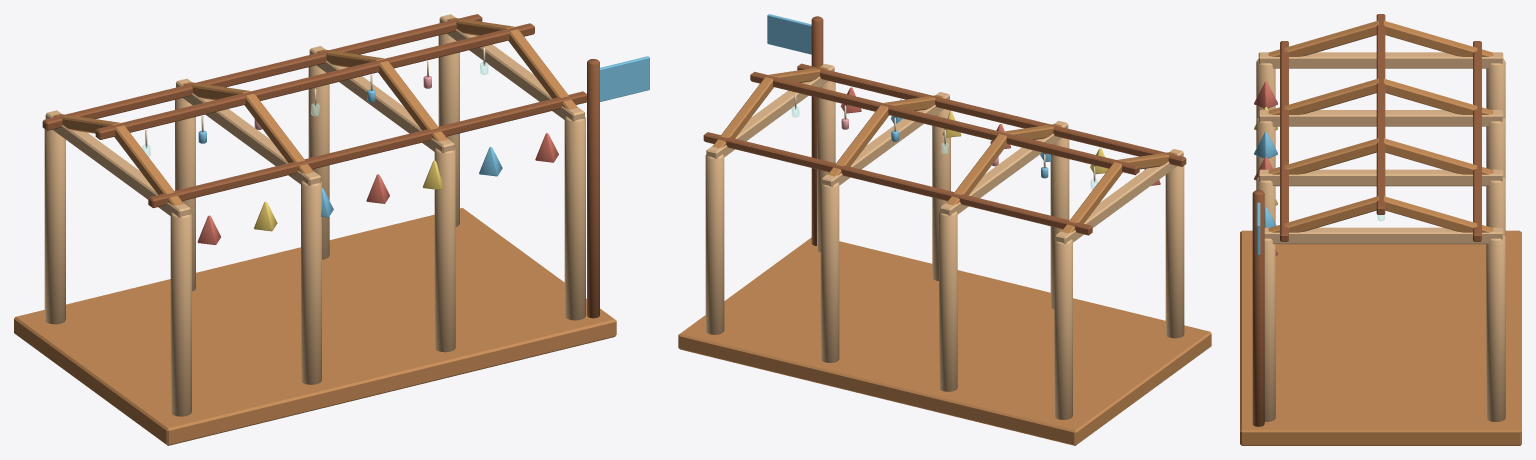
3 renders of one model, left to right at view 1: azimuth 30°, elevation 25°; view 2: azimuth 150°, elevation 25°; view 3: azimuth 270°, elevation 25°, orthographic. The views are drawn at different scales.
Visible parts, largest first — view 1: warm_cedar, honey_wood, toasted_wood, sea_blue, coral_red, lemon_accent; view 2: warm_cedar, honey_wood, toasted_wood, sea_blue; view 3: warm_cedar, honey_wood, toasted_wood, sea_blue, coral_red.
Part boxes in pixels (x1=…): warm_cedar: x1=14, y1=18, x2=616, y2=445; honey_wood: x1=44, y1=14, x2=585, y2=416; toasted_wood: x1=42, y1=14, x2=599, y2=318; sea_blue: x1=198, y1=56, x2=649, y2=217; coral_red: x1=197, y1=133, x2=558, y2=244; lemon_accent: x1=254, y1=160, x2=443, y2=231; warm_cedar: x1=678, y1=67, x2=1211, y2=445; honey_wood: x1=705, y1=64, x2=1184, y2=419; toasted_wood: x1=703, y1=16, x2=1186, y2=245; sea_blue: x1=767, y1=14, x2=1051, y2=178; warm_cedar: x1=1240, y1=20, x2=1521, y2=445; honey_wood: x1=1256, y1=52, x2=1505, y2=421; toasted_wood: x1=1252, y1=14, x2=1481, y2=426; sea_blue: x1=1254, y1=132, x2=1277, y2=254; coral_red: x1=1254, y1=82, x2=1277, y2=255.
Size of the model in its own units: 7 by 3.7 by 3.8.
